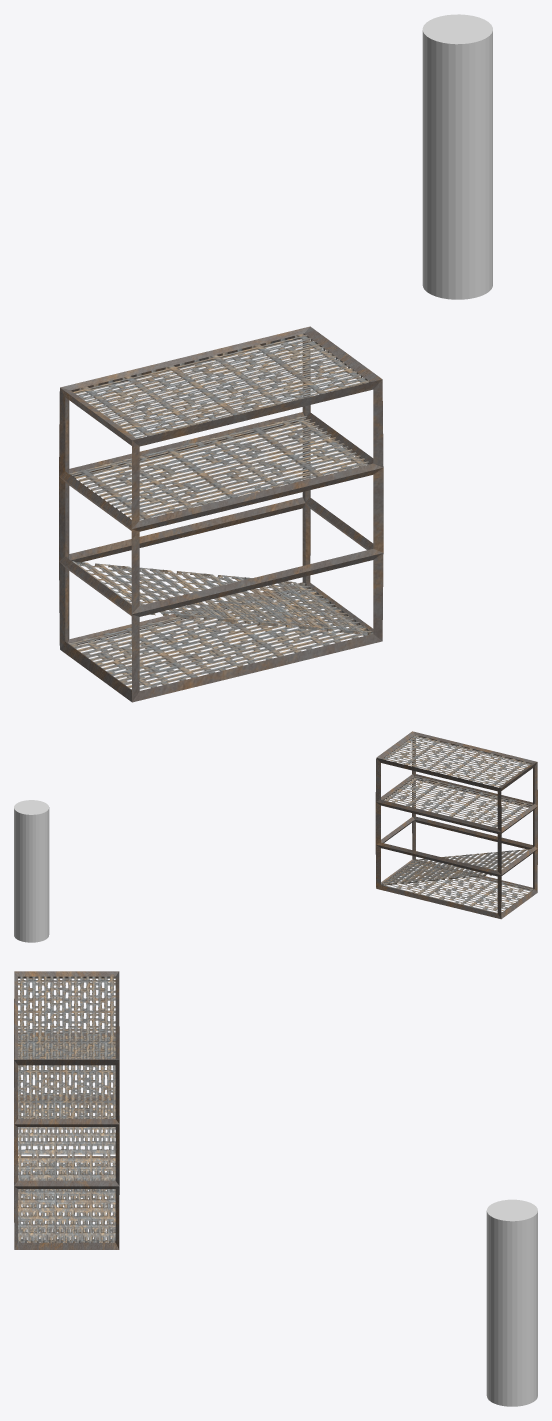
Rendered from rack.glb.
The picture shows the model from 3 angles, top to bottom: view 1: azimuth 30°, elevation 25°; view 2: azimuth 150°, elevation 25°; view 3: azimuth 270°, elevation 25°; orthographic projection. The views are drawn at different scales.
Parts seen in each view (by area): view 1: Cube.001, Rack, Ref-noimp; view 2: Cube.001, Rack, Ref-noimp; view 3: Cube.001, Ref-noimp, Rack.
Boxes of the visible parts, <box> form: Cube.001: <box>68,334,373,689</box>; Rack: <box>59,326,383,702</box>; Ref-noimp: <box>422,14,492,299</box>; Cube.001: <box>381,735,533,913</box>; Rack: <box>375,731,537,919</box>; Ref-noimp: <box>14,800,49,942</box>; Cube.001: <box>18,976,115,1242</box>; Ref-noimp: <box>486,1199,537,1406</box>; Rack: <box>14,971,119,1249</box>.
Size of what is drawn, in the model's own units: 5.73 by 2.05 by 5.12.
Materials: 2 (2 with a texture image).
